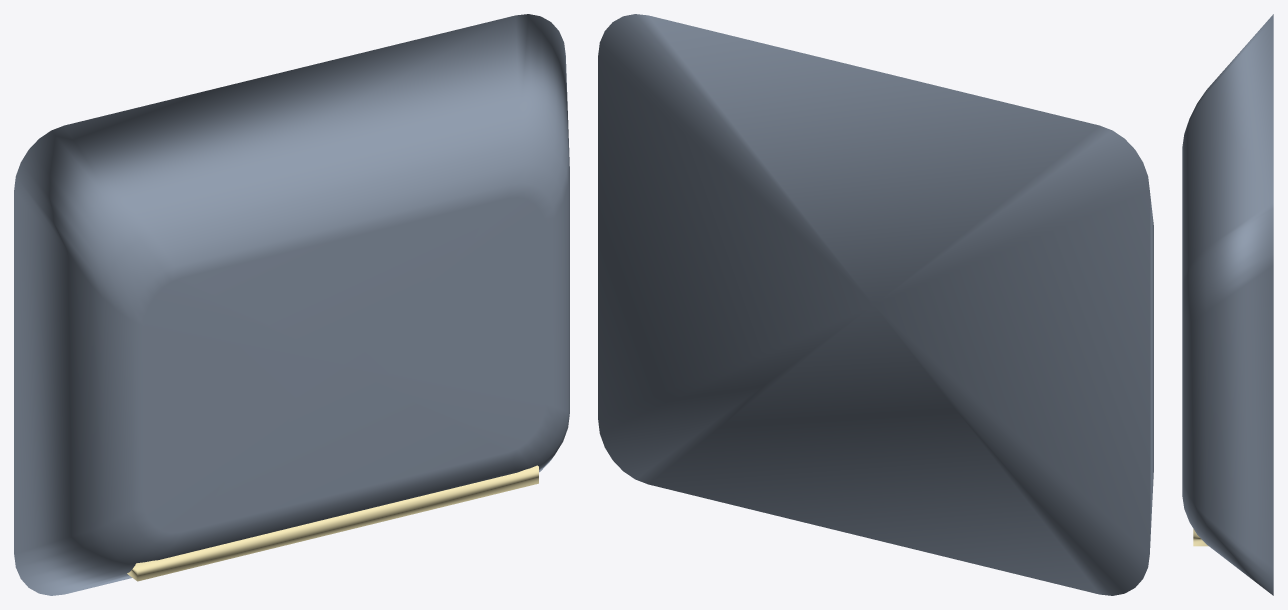
File: SM_Passerelle.obj
3 renders of one model, left to right at view 1: azimuth 30°, elevation 25°; view 2: azimuth 150°, elevation 25°; view 3: azimuth 270°, elevation 25°, orthographic. The views are drawn at different scales.
Bounding box in the file's own units: 13200 × 10724 × 2270.
